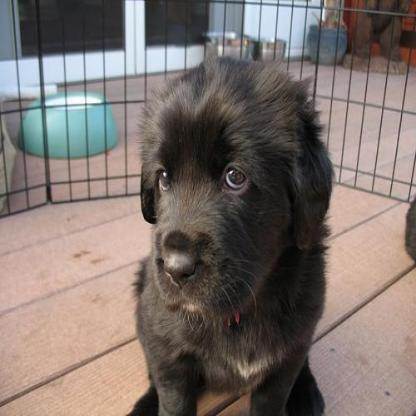Tibetan_mastiff: (129, 40, 335, 414)
